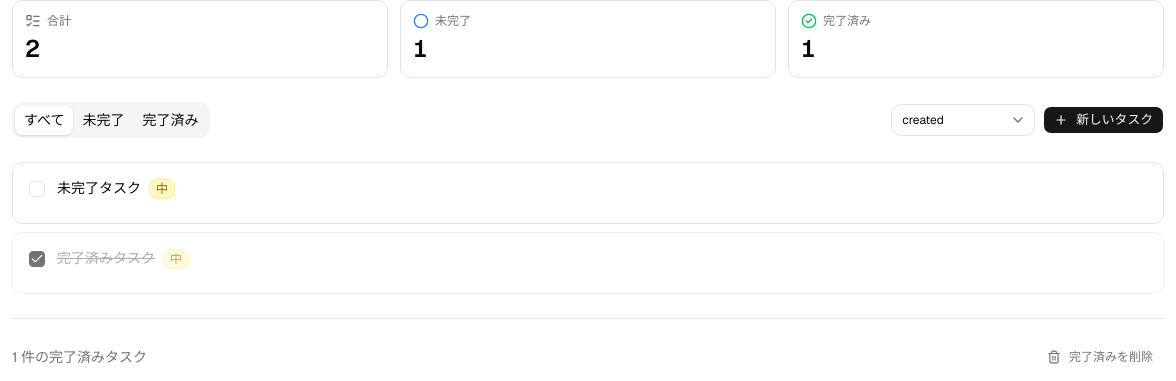
Test case: TodoList › "完了済み" タブで完了済みのtodoだけ表示する
The width and height of the screenshot is (1176, 381).
Step 1. Click the tab "完了済み" → (170, 120), box [134, 106, 208, 134]
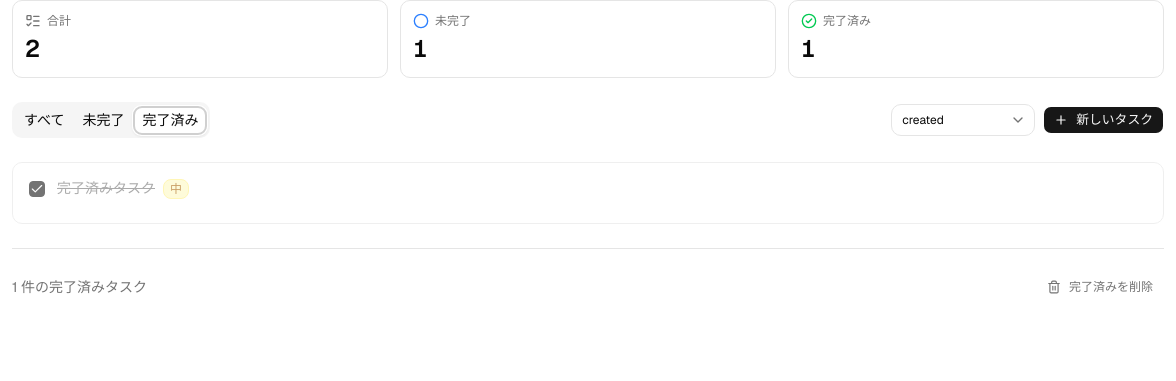
Expected: the text "完了済みタスク" is shown, [57, 179, 155, 199]
Result: the text "未完了タスク" is gone
